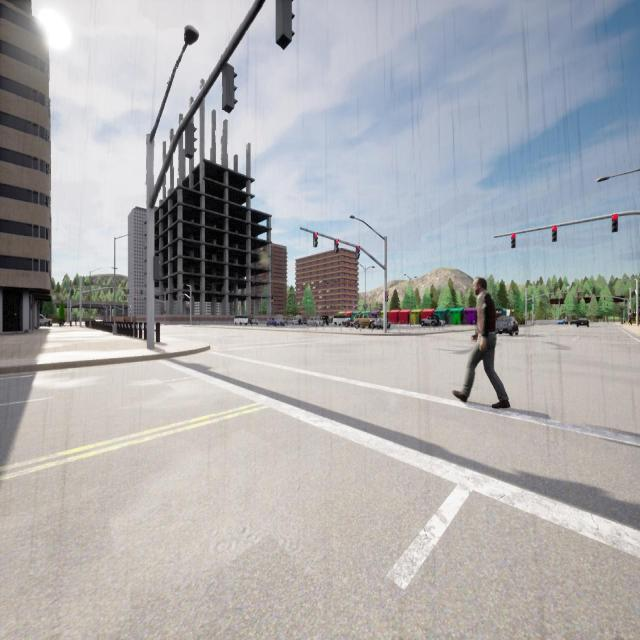Pedestrian: (452, 277, 510, 408), (628, 316, 632, 326)
Vehicle: (497, 315, 518, 335), (354, 315, 374, 328), (372, 318, 390, 328), (422, 315, 436, 326), (40, 315, 52, 326), (333, 316, 347, 325), (577, 317, 589, 327), (267, 319, 284, 326), (235, 316, 248, 325), (308, 318, 322, 326), (321, 316, 328, 326), (346, 320, 354, 327), (287, 320, 298, 325), (251, 319, 258, 325), (570, 318, 577, 324), (559, 320, 568, 324)
traffic_light: (276, 0, 295, 50), (222, 64, 238, 114), (185, 124, 197, 159), (154, 256, 160, 280), (612, 215, 618, 233), (552, 226, 557, 240), (313, 233, 317, 247), (512, 234, 516, 248), (334, 239, 338, 252), (356, 246, 360, 258), (385, 291, 388, 301), (124, 296, 126, 300), (164, 310, 166, 314), (604, 297, 606, 300), (578, 296, 580, 299), (590, 296, 592, 299), (134, 296, 136, 298), (630, 310, 631, 312)
